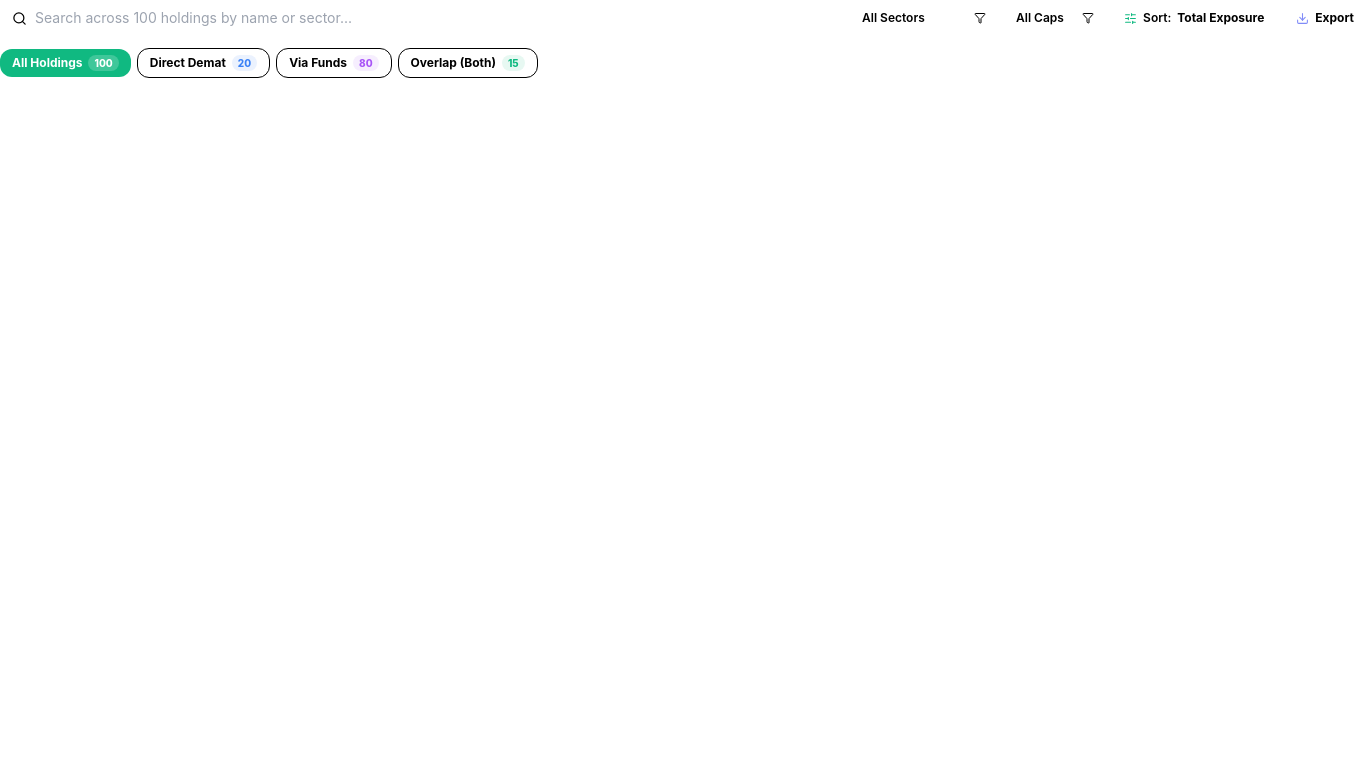
it: HoldingsFilterBar › opens sort modal when clicking sort button
What coordinates should you click on to do the following:
click the button with aria-label "Open sorting options"
I would click on:
 (1194, 18)
Its box is [1112,2,1276,34].
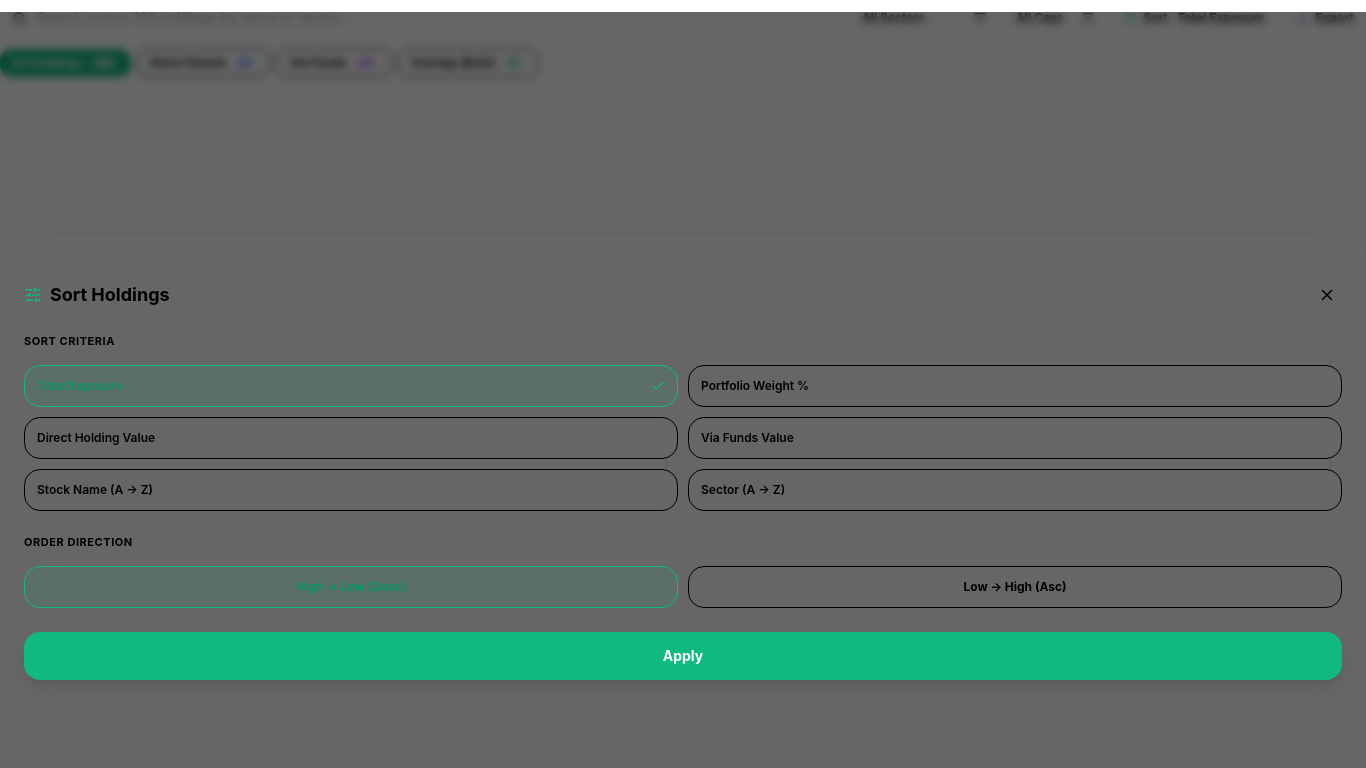
Expected: the heading "Sort Holdings" is shown, [50,281,170,309]
Expected: the text "Sort Criteria" is shown, [24,334,115,348]
